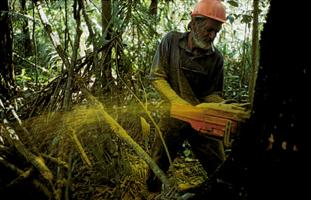person: (146, 1, 227, 194)
